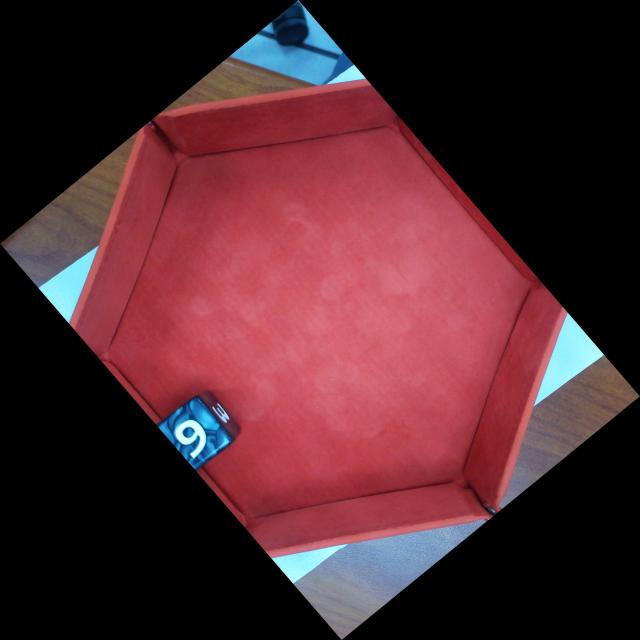dice: (159, 399, 232, 470)
